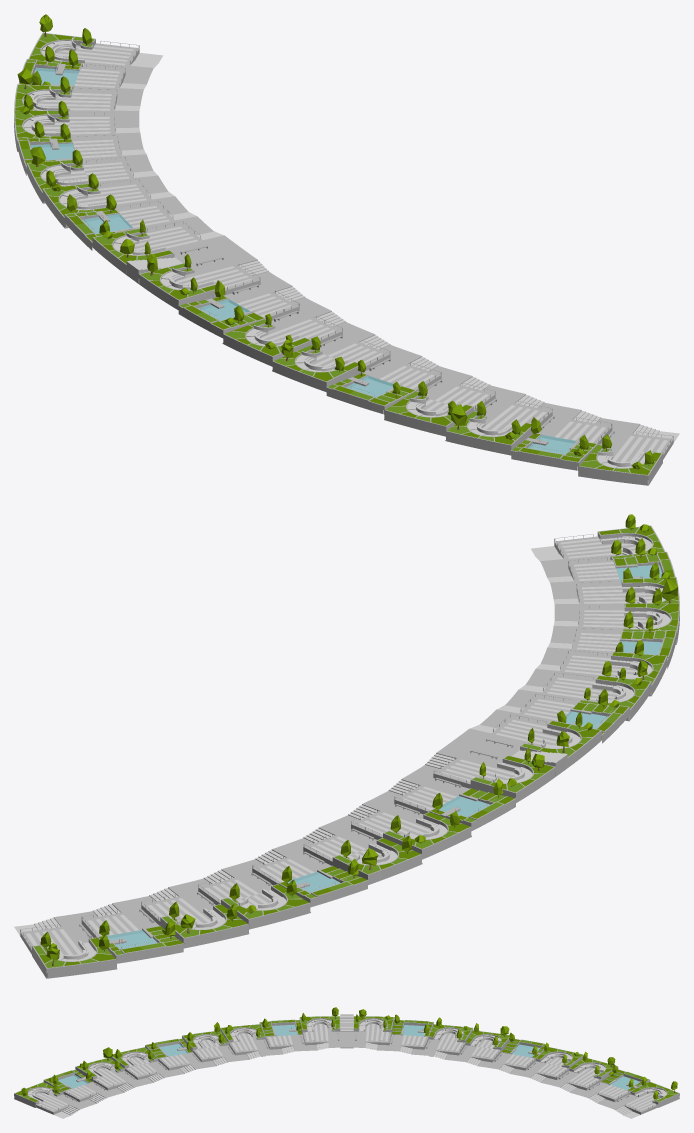
The model's file is ring5_segment.glb.
3 renders of one model, top to bottom at view 1: azimuth 30°, elevation 25°; view 2: azimuth 150°, elevation 25°; view 3: azimuth 270°, elevation 25°, orthographic. The views are drawn at different scales.
Parts seen in each view (by area): view 1: RING_5_MOD; view 2: RING_5_MOD; view 3: RING_5_MOD.
Part boxes in pixels (bbox=[...]): RING_5_MOD: bbox=[14, 14, 679, 485]; RING_5_MOD: bbox=[14, 514, 679, 978]; RING_5_MOD: bbox=[14, 1007, 679, 1118].
Bounding box in the file's own units: 5975 × 1333 × 21662.
9 materials, 1 textured.
